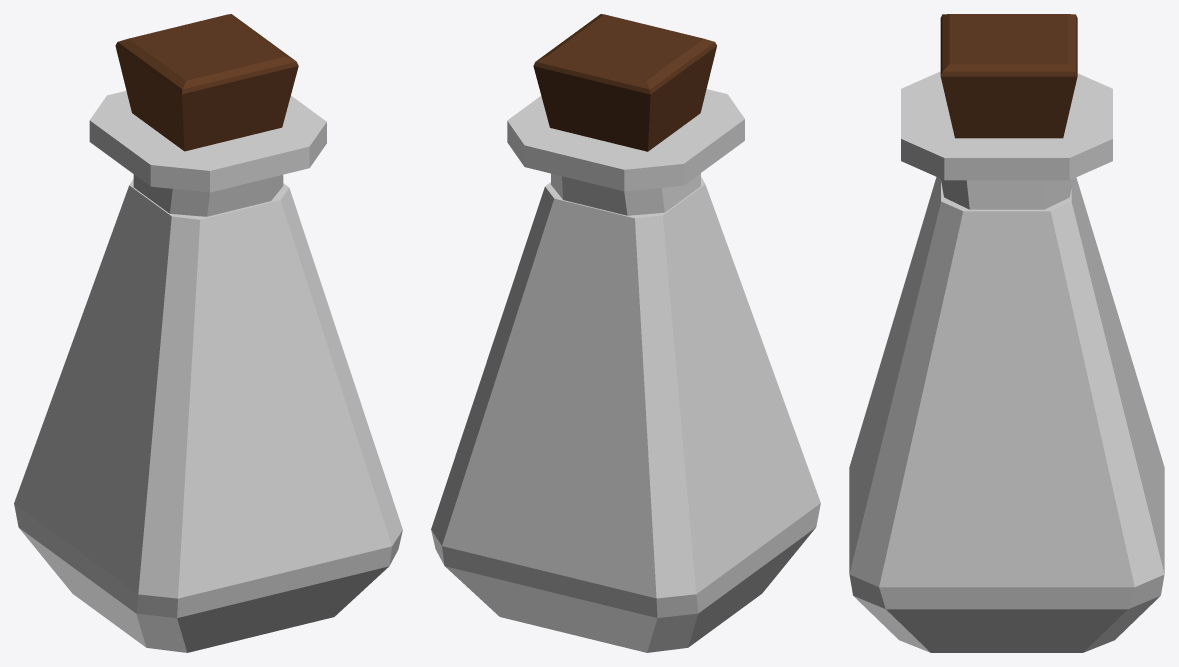
File: AP-Potion.fbx
3 views of the same model, side by side, from view 1: azimuth 30°, elevation 25°; view 2: azimuth 150°, elevation 25°; view 3: azimuth 270°, elevation 25° (orthographic). The views are drawn at different scales.
Parts seen in each view (by area): view 1: Cube.001, Cube; view 2: Cube.001, Cube; view 3: Cube.001, Cube.
Part boxes in pixels (x1,y1,x2,y2): Cube.001: (14, 90, 402, 652); Cube: (115, 14, 298, 151); Cube.001: (431, 89, 820, 652); Cube: (533, 14, 716, 151); Cube.001: (849, 71, 1164, 652); Cube: (940, 14, 1077, 138).
Size of the model in its own units: 185 by 367 by 186.
